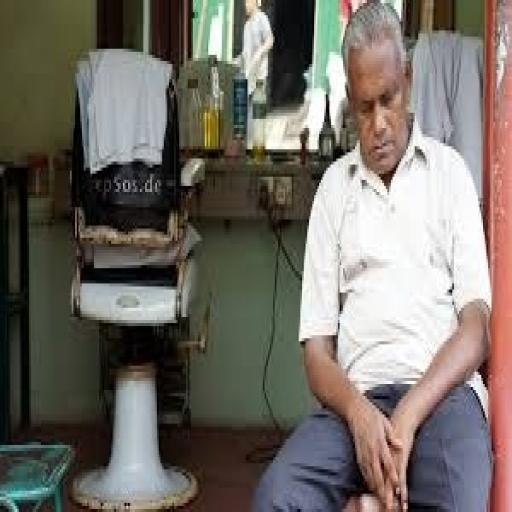sleeping: (251, 3, 495, 509)
